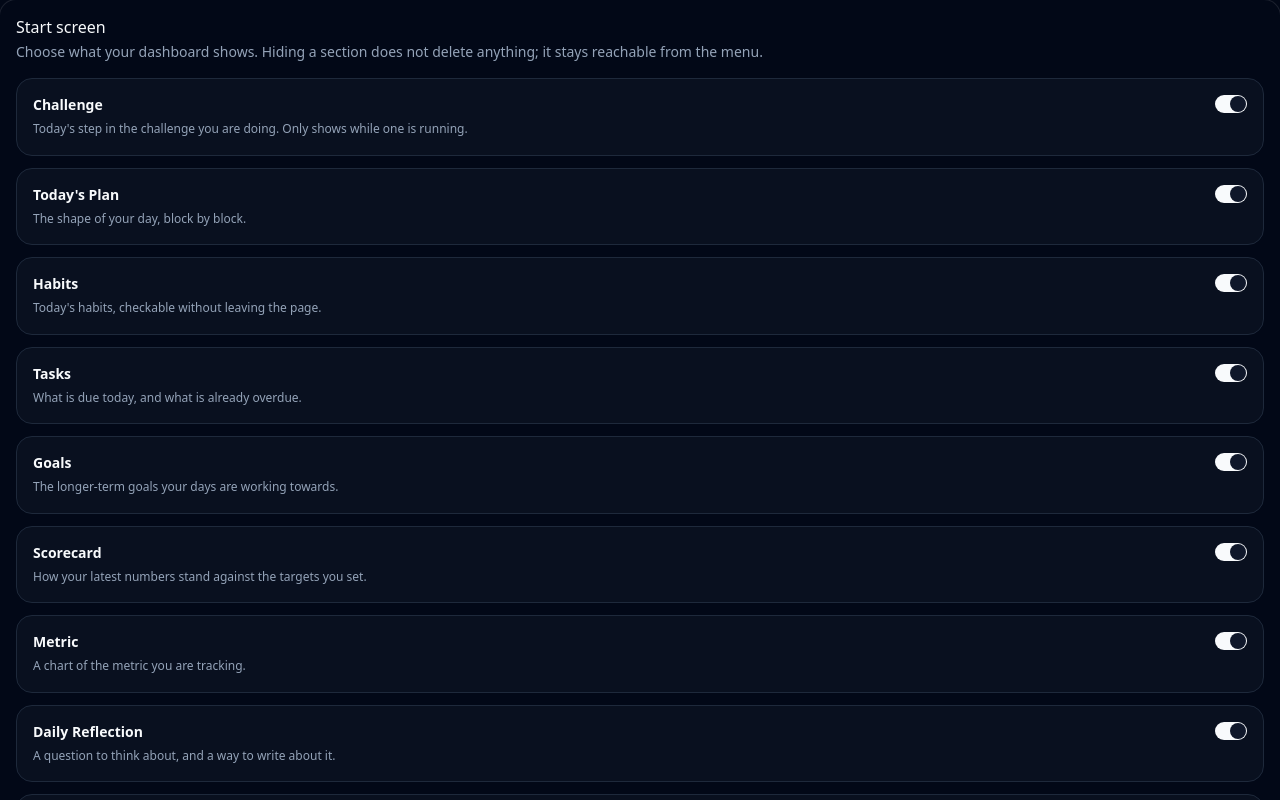
Test: DashboardSectionsCard › puts the switch back and explains when the write fails
What coordinates should you click on to do the following:
click the switch named "habits"
I would click on:
 (1231, 283)
Its box is [1215,274,1247,292].
(page scrolled)
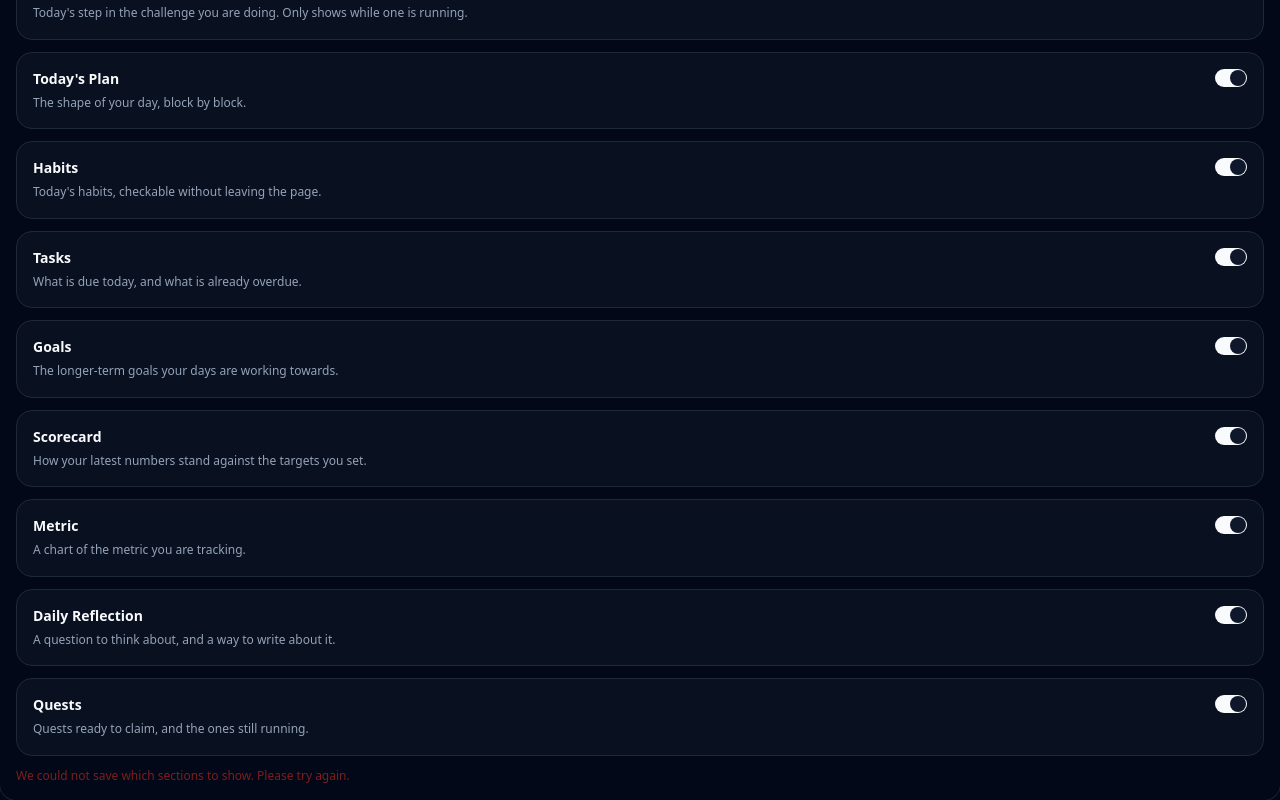
Now the text "We could not save which sections to show. Please try again." is shown, box [16,766,350,784]
